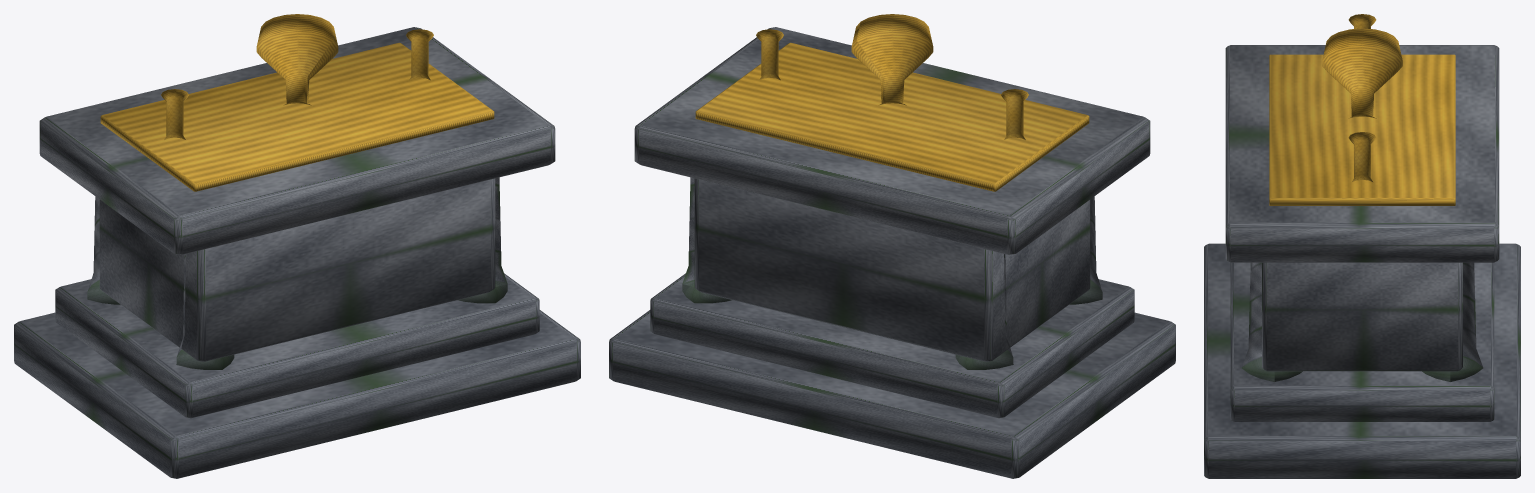
Rendered from altar.glb.
3 renders of one model, left to right at view 1: azimuth 30°, elevation 25°; view 2: azimuth 150°, elevation 25°; view 3: azimuth 270°, elevation 25°, orthographic.
Parts seen in each view (by area): view 1: AncientStoneAltar; view 2: AncientStoneAltar; view 3: AncientStoneAltar.
Boxes of the visible parts, left/top/right/bottom form: AncientStoneAltar: left=14, top=14, right=580, bottom=478; AncientStoneAltar: left=609, top=14, right=1175, bottom=478; AncientStoneAltar: left=1204, top=14, right=1520, bottom=478.
Bounding box in the file's own units: 43.5 × 34.86 × 29.54.
2 materials, 2 textured.
